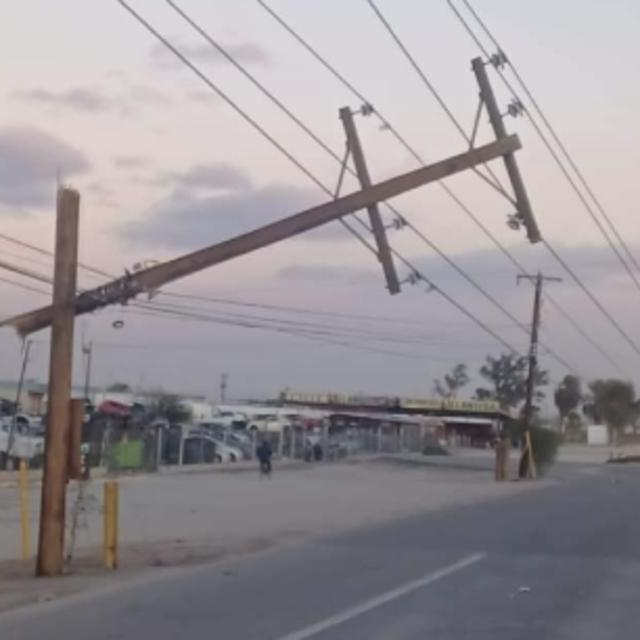Inclined Pole: (6, 45, 551, 577)
